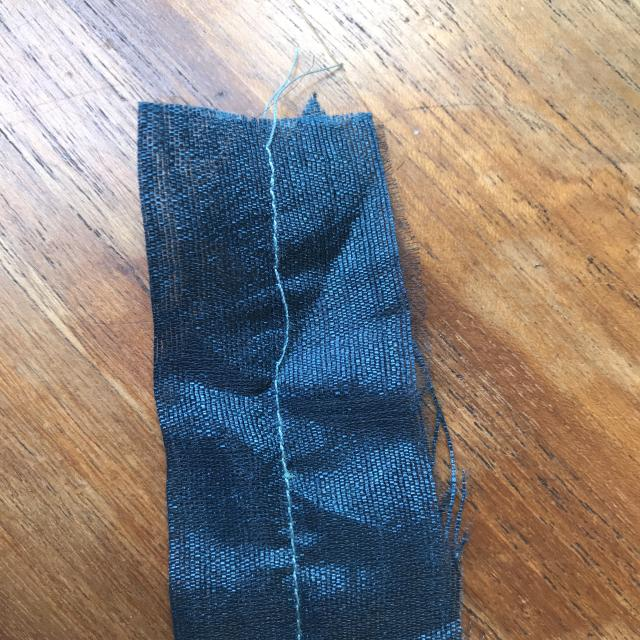good: (265, 456, 310, 550)
skip: (248, 243, 322, 399)
